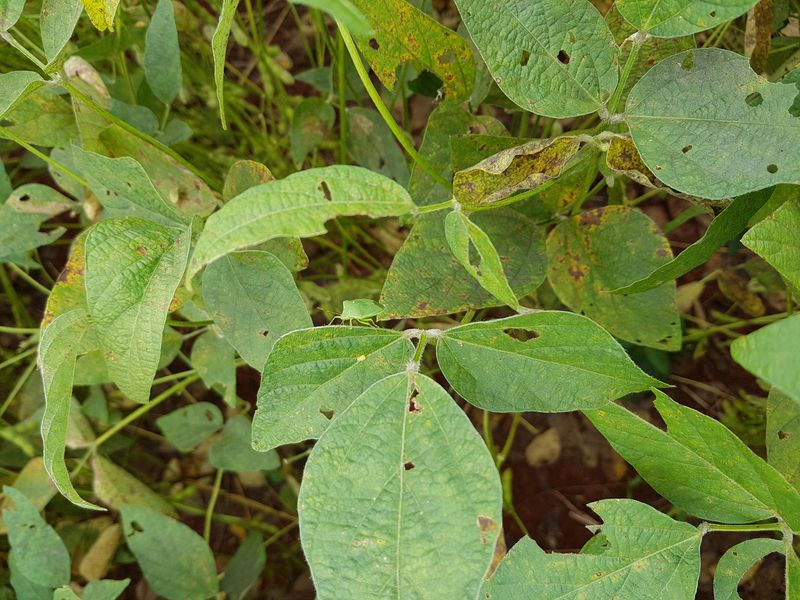Nezara_viridula_adulto: (320, 287, 398, 348)
